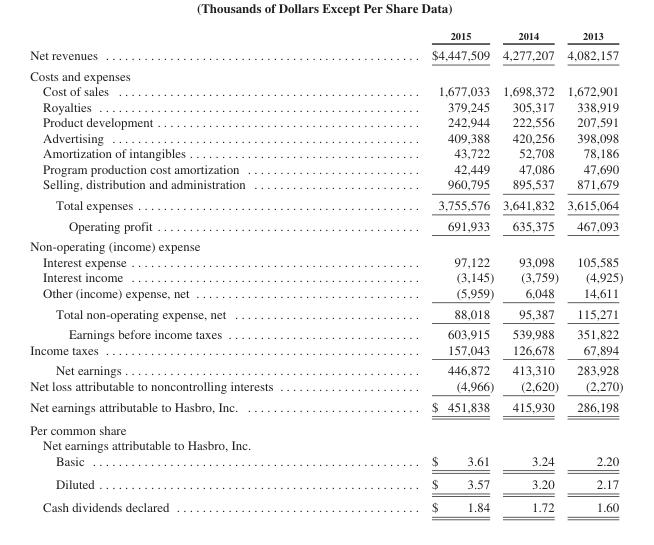table: (29, 28, 622, 514)
table column: (29, 28, 351, 514), (351, 28, 497, 514), (497, 28, 562, 514), (562, 28, 622, 514)
table column header: (29, 28, 622, 44)
table projected row header: (29, 417, 622, 437), (29, 65, 622, 83), (29, 235, 622, 253), (29, 437, 622, 452)
table row: (29, 472, 622, 495), (29, 395, 622, 417), (29, 44, 622, 65), (29, 214, 622, 235), (29, 302, 622, 323), (29, 194, 622, 214), (29, 417, 622, 437), (29, 452, 622, 472), (29, 495, 622, 514), (29, 65, 622, 83), (29, 176, 622, 194), (29, 235, 622, 253), (29, 284, 622, 302), (29, 323, 622, 341), (29, 341, 622, 359), (29, 359, 622, 377), (29, 377, 622, 395), (29, 28, 622, 44), (29, 98, 622, 114), (29, 129, 622, 145), (29, 160, 622, 176), (29, 253, 622, 269), (29, 83, 622, 98), (29, 114, 622, 129), (29, 145, 622, 160), (29, 269, 622, 284), (29, 437, 622, 452)
